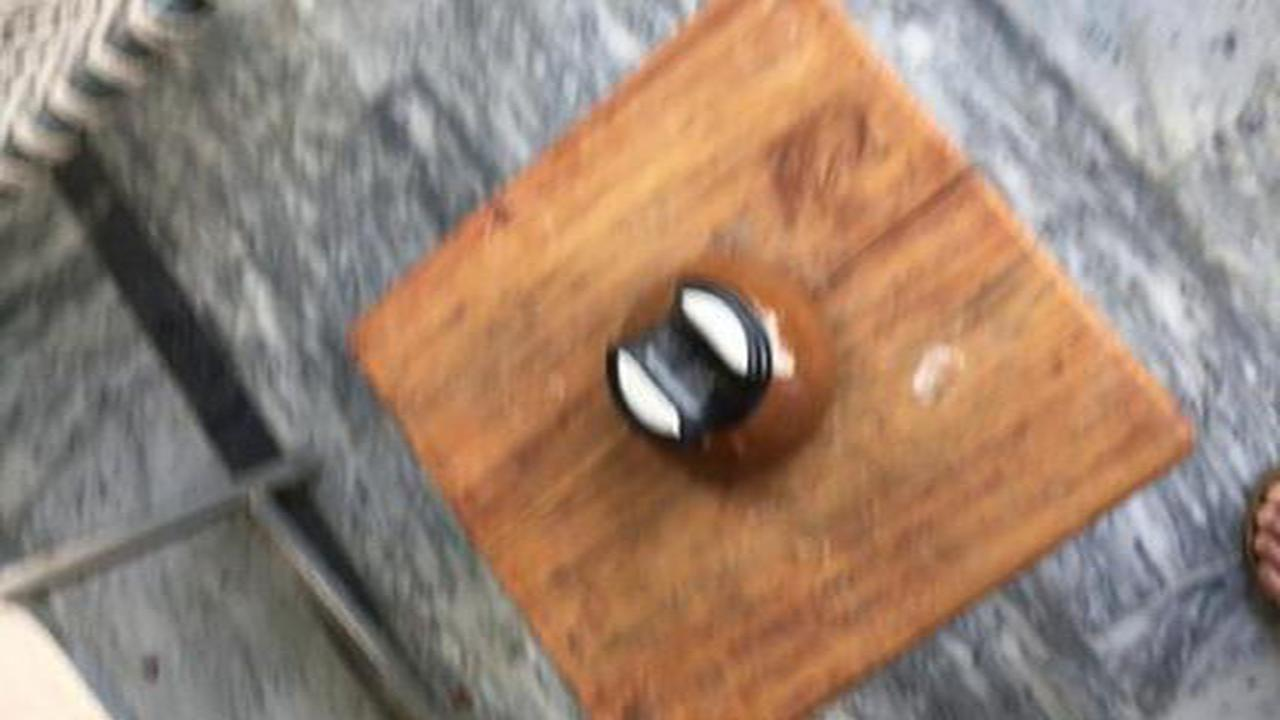insulator_pin: (588, 243, 865, 501)
